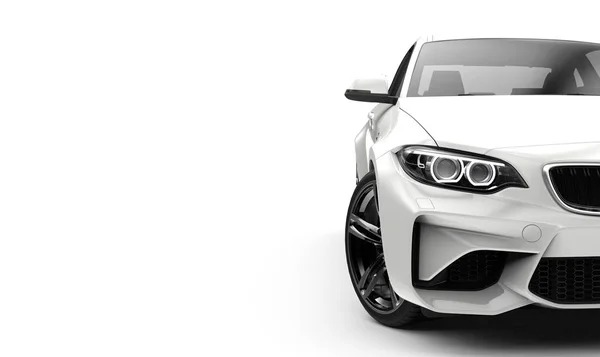car: (326, 30, 600, 340)
